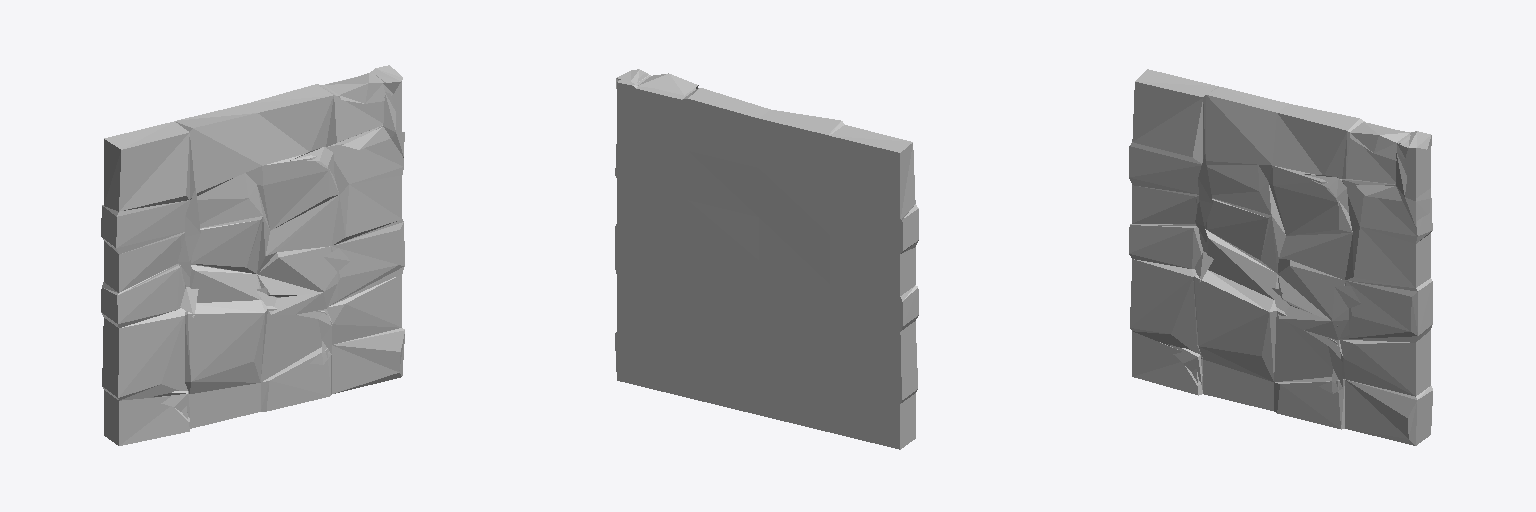
Rendered from muro 2.obj.
The picture shows the model from 3 angles: view 1: azimuth 30°, elevation 25°; view 2: azimuth 150°, elevation 25°; view 3: azimuth 330°, elevation 25°; orthographic projection.
Visible parts, largest first — view 1: muro_2 muro_2, muro_2 musgo_3, muro_2 musgo_1, musgo_2 muro_2, muro_2 musgo_6; view 2: muro_2 muro_2, muro_2 musgo_1; view 3: muro_2 muro_2, muro_2 musgo_3, muro_2 musgo_1, muro_2 musgo_6, musgo_2 muro_2.
Boxes of the visible parts, <box> form: muro_2 muro_2: <box>101,74,404,445</box>; muro_2 musgo_3: <box>256,248,349,364</box>; muro_2 musgo_1: <box>326,65,402,103</box>; musgo_2 muro_2: <box>178,188,200,317</box>; muro_2 musgo_6: <box>342,92,404,157</box>; muro_2 muro_2: <box>615,74,918,449</box>; muro_2 musgo_1: <box>616,69,698,95</box>; muro_2 muro_2: <box>1129,69,1432,445</box>; muro_2 musgo_3: <box>1271,286,1360,393</box>; muro_2 musgo_1: <box>1349,122,1431,160</box>; muro_2 musgo_6: <box>1356,152,1429,226</box>; musgo_2 muro_2: <box>1195,155,1213,282</box>.
Size of the model in its own units: 22.06 by 22 by 2.61.